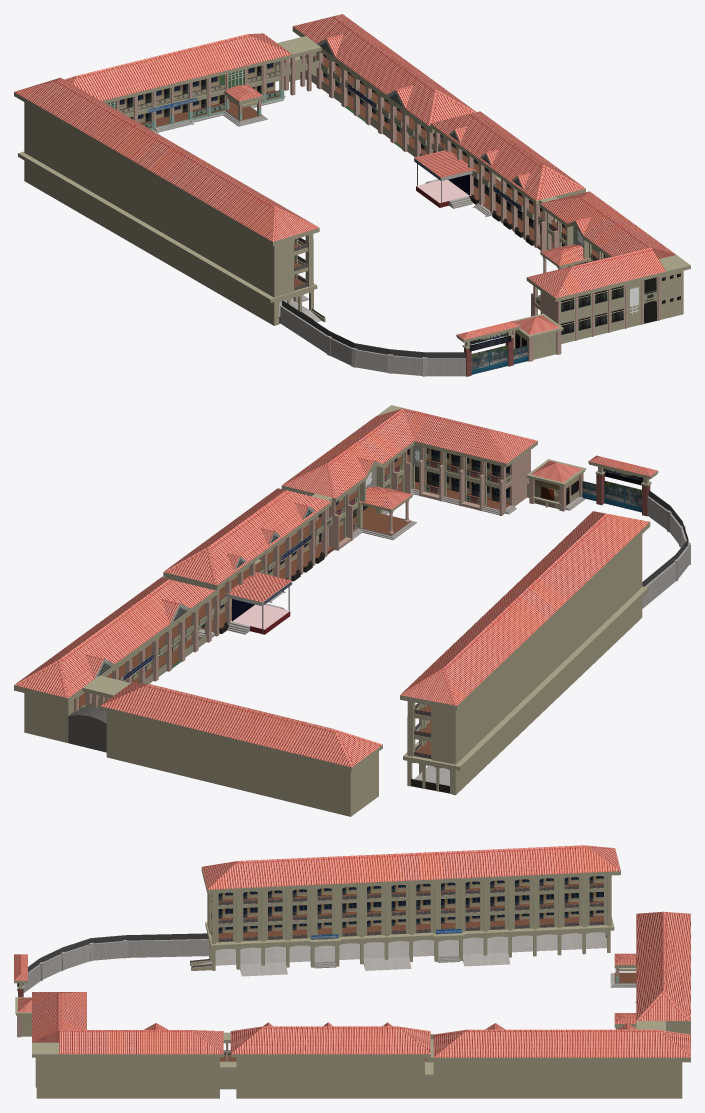
Rendered from Truong THCS Tan Xuan.glb.
3 renders of one model, top to bottom at view 1: azimuth 30°, elevation 25°; view 2: azimuth 150°, elevation 25°; view 3: azimuth 270°, elevation 25°, orthographic. The views are drawn at different scales.
Parts seen in each view (by area): view 1: BPH032_TruongTHCSTanXuan_A, BPH032_TruongTHCSTanXuan_B; view 2: BPH032_TruongTHCSTanXuan_A, BPH032_TruongTHCSTanXuan_B; view 3: BPH032_TruongTHCSTanXuan_A, BPH032_TruongTHCSTanXuan_B.
Part boxes in pixels (box(x1,y1,x2,y2)): BPH032_TruongTHCSTanXuan_A: box(14, 77, 690, 376); BPH032_TruongTHCSTanXuan_B: box(64, 14, 585, 247); BPH032_TruongTHCSTanXuan_A: box(281, 405, 690, 795); BPH032_TruongTHCSTanXuan_B: box(14, 488, 382, 816); BPH032_TruongTHCSTanXuan_A: box(14, 845, 620, 1098); BPH032_TruongTHCSTanXuan_B: box(230, 911, 690, 1098).
Bounding box in the file's own units: 73.62 × 19.89 × 124.
Materials: 2 (2 with a texture image).
